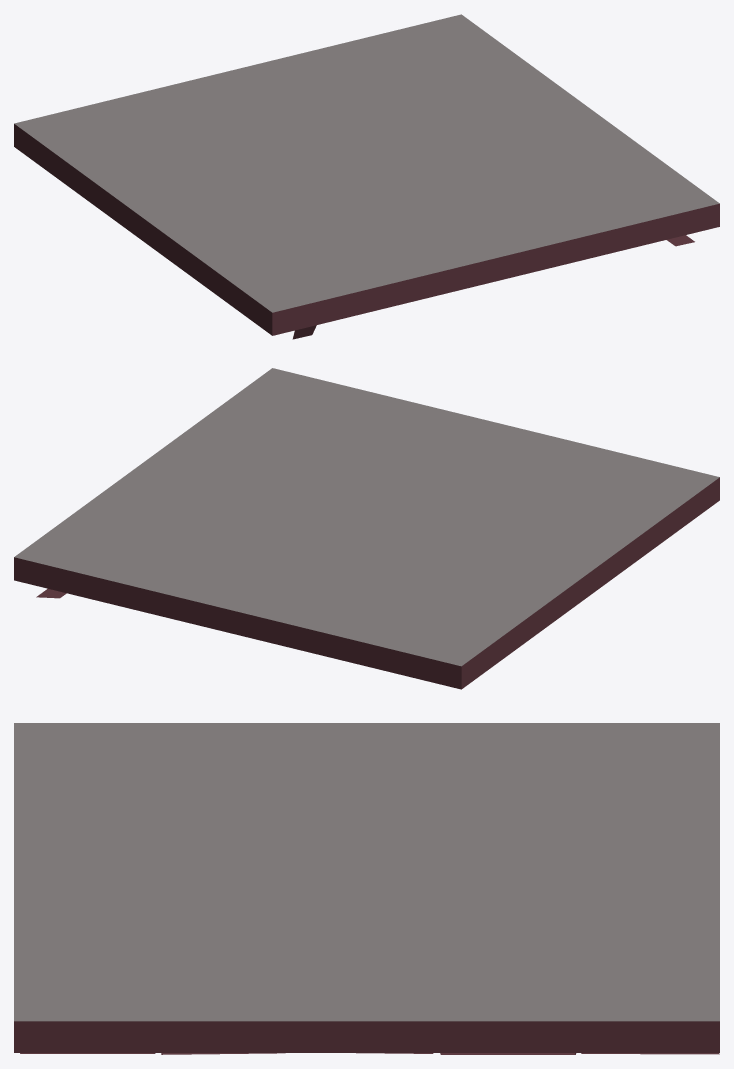
Rendered from fantasy-dungeon-roof-stone.glb.
3 views of the same model, one above another, from view 1: azimuth 30°, elevation 25°; view 2: azimuth 150°, elevation 25°; view 3: azimuth 270°, elevation 25° (orthographic). The views are drawn at different scales.
Parts seen in each view (by area): view 1: dungeon-roof-stone; view 2: dungeon-roof-stone; view 3: dungeon-roof-stone.
Boxes of the visible parts, x1=… form: dungeon-roof-stone: x1=14, y1=14, x2=719, y2=339; dungeon-roof-stone: x1=14, y1=368, x2=719, y2=689; dungeon-roof-stone: x1=14, y1=723, x2=719, y2=1054.
Size of the model in its own units: 4 by 0.3017 by 4.
